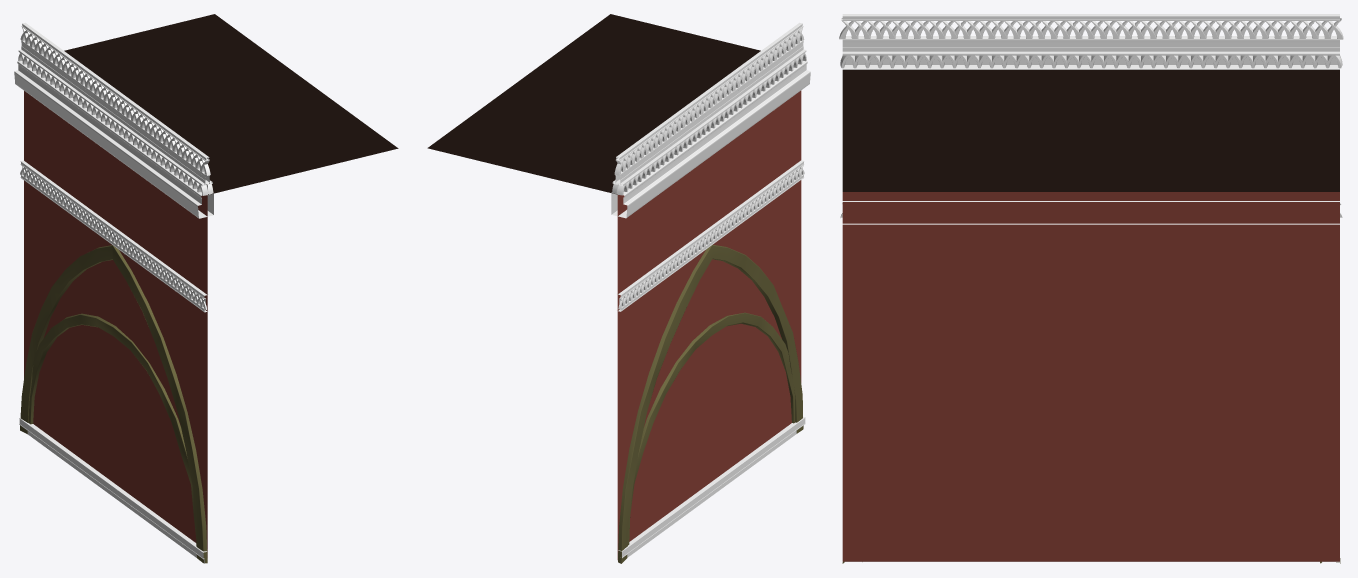
Rendered from Geonosis_Gallery01_Tall10m.fbx.
3 views of the same model, side by side, from view 1: azimuth 30°, elevation 25°; view 2: azimuth 150°, elevation 25°; view 3: azimuth 270°, elevation 25° (orthographic). The views are drawn at different scales.
Parts seen in each view (by area): view 1: Geonosis_Gallery01_Tall10m; view 2: Geonosis_Gallery01_Tall10m; view 3: Geonosis_Gallery01_Tall10m.
Boxes of the visible parts, box(x1,y1,x2,y2) form: Geonosis_Gallery01_Tall10m: box(14, 14, 398, 563); Geonosis_Gallery01_Tall10m: box(427, 14, 810, 563); Geonosis_Gallery01_Tall10m: box(839, 14, 1343, 563).
Size of the model in its own units: 630 by 1220 by 1013.
